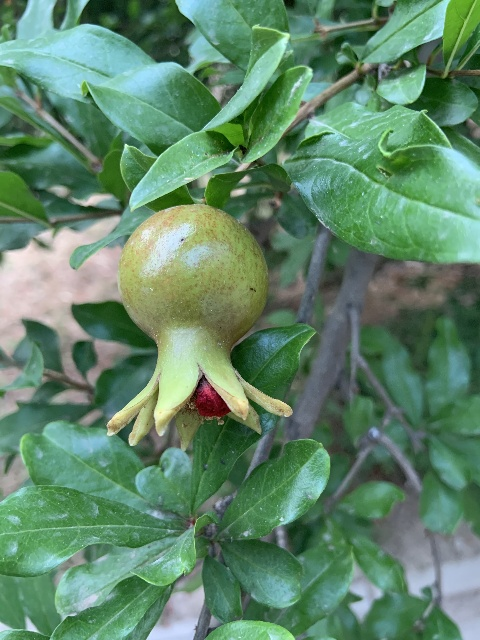mid-growth: (107, 201, 292, 447)
